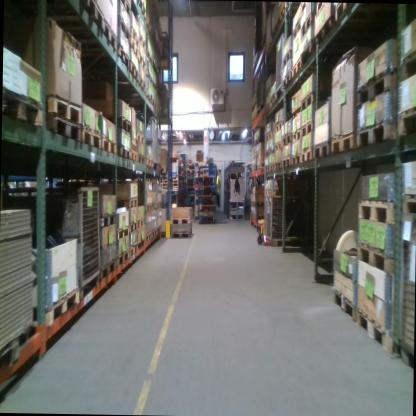pallet: (25, 286, 79, 335), (355, 308, 397, 362), (1, 84, 44, 135), (355, 239, 402, 279), (355, 64, 398, 107), (356, 117, 397, 151), (356, 195, 397, 228), (43, 118, 83, 145), (41, 93, 85, 116), (331, 286, 358, 321), (95, 10, 116, 55), (330, 130, 356, 161), (314, 16, 337, 50), (68, 0, 100, 24), (398, 42, 416, 82), (396, 104, 416, 140), (77, 125, 103, 152), (97, 257, 116, 287), (264, 187, 305, 200), (399, 189, 416, 220), (300, 92, 326, 111), (115, 42, 131, 71), (102, 117, 132, 132), (301, 12, 317, 40), (290, 13, 305, 40), (98, 211, 117, 232), (334, 3, 356, 21), (300, 41, 314, 69), (115, 195, 139, 211), (128, 21, 141, 49), (301, 118, 317, 140), (117, 17, 130, 44), (116, 244, 129, 270), (289, 56, 305, 77), (127, 59, 139, 84), (100, 138, 118, 154), (299, 149, 314, 168), (170, 228, 193, 240), (168, 213, 193, 224), (314, 143, 329, 161), (116, 225, 131, 242), (117, 0, 132, 17), (134, 0, 147, 18), (282, 70, 293, 90), (290, 154, 303, 170), (117, 144, 130, 160), (291, 126, 301, 144), (128, 244, 138, 262), (129, 36, 138, 56), (136, 53, 146, 71), (281, 131, 292, 146), (274, 121, 289, 132), (144, 86, 152, 106), (149, 199, 162, 211), (138, 76, 146, 95), (282, 155, 291, 171), (143, 156, 154, 169), (265, 83, 275, 97), (138, 35, 147, 50), (147, 46, 154, 65), (274, 137, 282, 152), (145, 68, 153, 83), (257, 98, 264, 115), (129, 220, 138, 233), (136, 131, 145, 144), (136, 216, 144, 230), (264, 131, 274, 142), (143, 201, 152, 213), (150, 226, 156, 244), (145, 230, 152, 245), (138, 151, 145, 166), (274, 160, 282, 173), (270, 161, 276, 176), (256, 162, 265, 172), (131, 147, 137, 161), (156, 224, 161, 239), (152, 97, 157, 112), (264, 147, 272, 156), (266, 101, 271, 113), (270, 96, 275, 107), (265, 165, 270, 175), (252, 111, 256, 123), (256, 137, 262, 144), (256, 150, 264, 155), (156, 106, 160, 116), (251, 152, 256, 160), (251, 165, 256, 172)
pallet_truck: (251, 171, 272, 246)
stillage: (38, 179, 105, 300), (393, 206, 416, 366), (266, 194, 308, 247), (272, 33, 292, 100), (138, 114, 159, 169), (263, 194, 267, 236)
